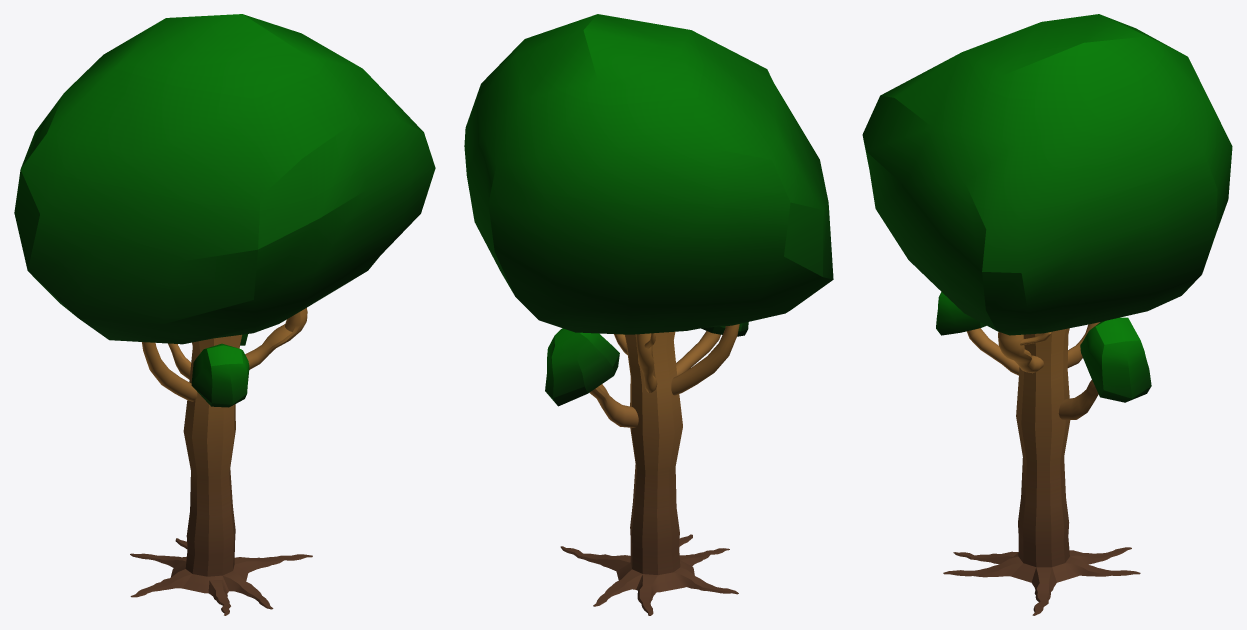
Rendered from ArbolPrincipal_elementosDecorativos_T.fbx.
3 views of the same model, side by side, from view 1: azimuth 30°, elevation 25°; view 2: azimuth 150°, elevation 25°; view 3: azimuth 270°, elevation 25° (orthographic). The views are drawn at different scales.
Visible parts, largest first — view 1: Arbol grande; view 2: Arbol grande; view 3: Arbol grande.
Boxes of the visible parts, x1,y1,x2,y2 form: Arbol grande: (14,14,435,615); Arbol grande: (464,14,833,615); Arbol grande: (862,14,1232,615).
Bounding box in the file's own units: 6801 × 9400 × 5732.
